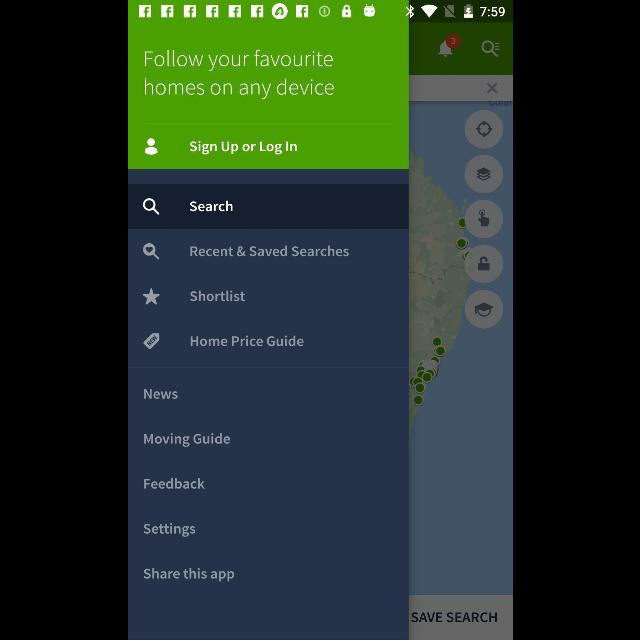icon: (142, 198, 160, 216), (141, 243, 159, 261), (142, 288, 160, 306), (144, 138, 158, 156)
image: (142, 332, 160, 350)
panel: (128, 24, 408, 640)
text: (142, 50, 334, 100), (189, 245, 349, 257), (189, 140, 297, 156), (143, 432, 230, 448), (190, 335, 304, 347), (142, 568, 234, 582), (143, 522, 195, 538), (143, 478, 205, 489), (189, 290, 245, 302), (190, 200, 232, 212), (143, 388, 177, 399)
uppertaskbar: (128, 1, 512, 23)
